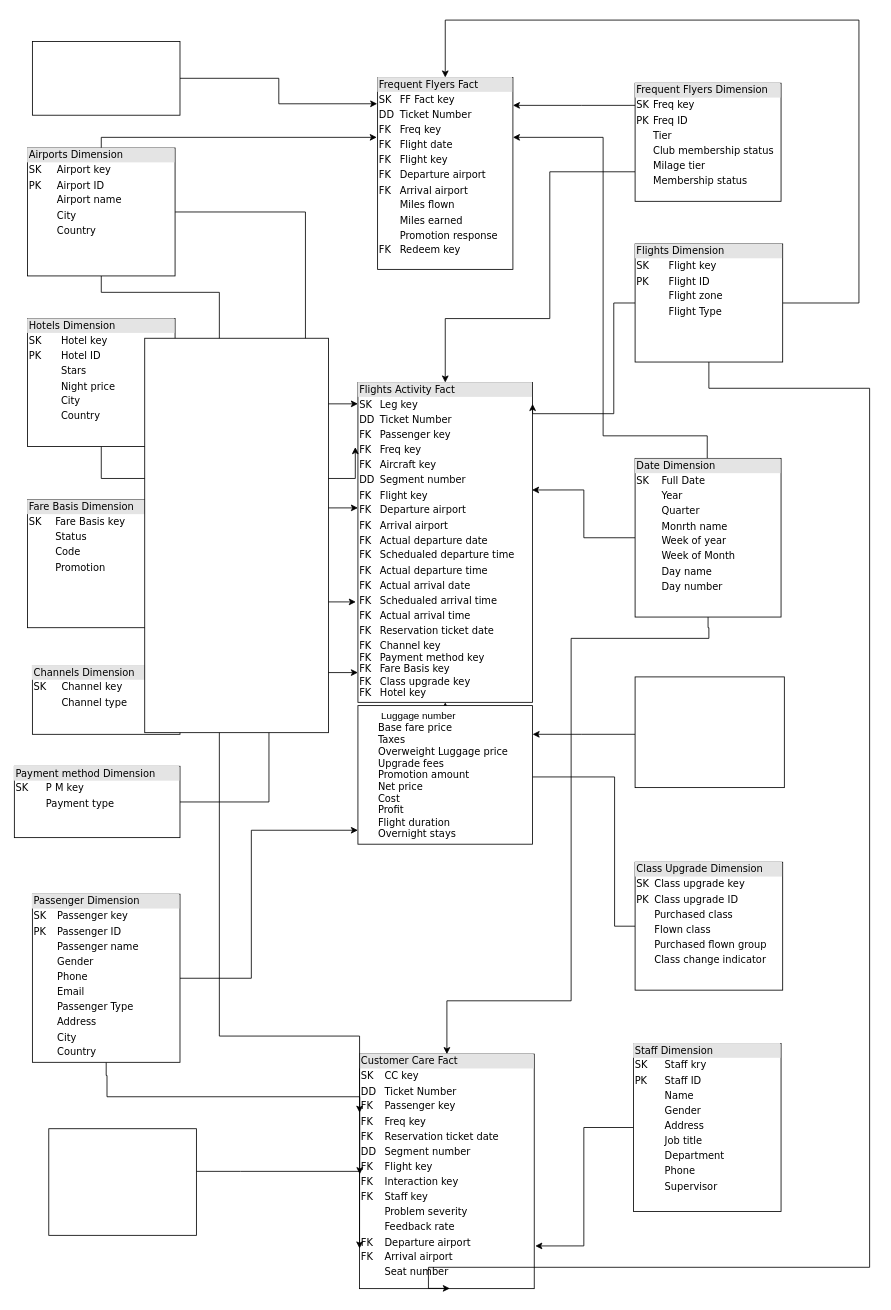
The diagram is 891 pixels wide and 1310 high, and some of its shapes have lost their labels. Here are the shapes that lost their labels. From the top down, the centre of each, then its label:
the point at 106,78: Redeem Dimension SK Redeem key Type Description
the point at 709,732: Aircrafts Dimension SK Aircraft key PK Aircraft ID Model Company Seats Capacity
the point at 122,1181: Interaction Dimension SK Interaction key Type Interaction time Description
